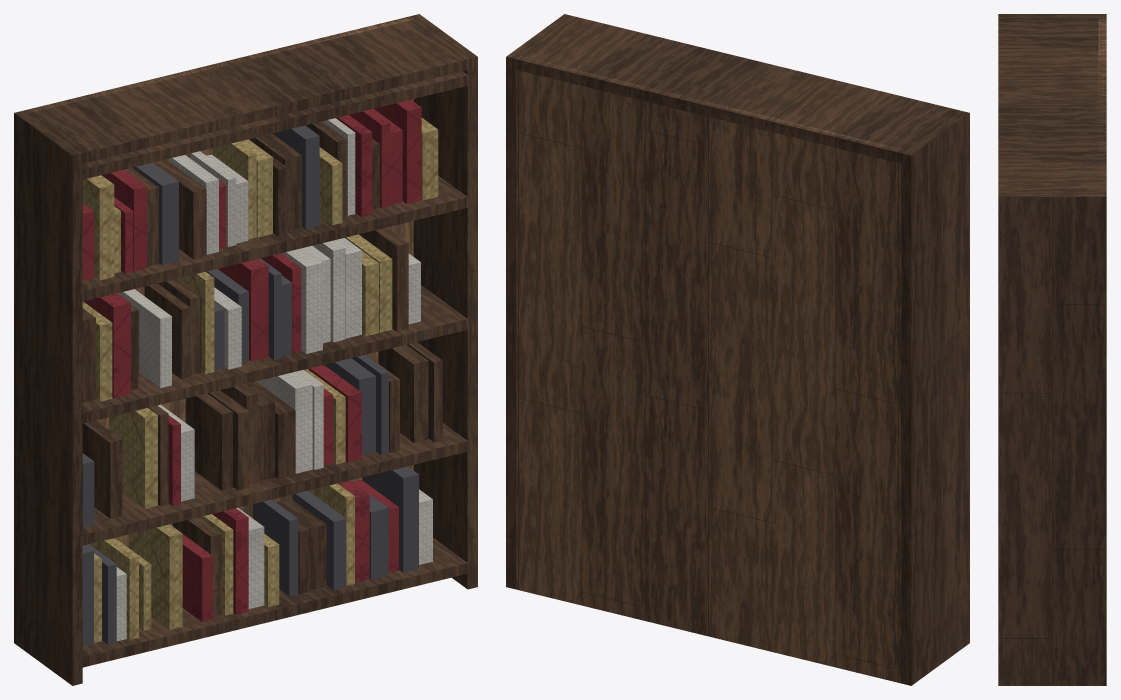
Rendered from PRP_Estante.fbx.
3 renders of one model, left to right at view 1: azimuth 30°, elevation 25°; view 2: azimuth 150°, elevation 25°; view 3: azimuth 270°, elevation 25°, orthographic. The views are drawn at different scales.
Parts seen in each view (by area): view 1: PRP_Estante; view 2: PRP_Estante; view 3: PRP_Estante.
Part boxes in pixels (x1=…): PRP_Estante: x1=14, y1=14, x2=477, y2=685; PRP_Estante: x1=506, y1=14, x2=969, y2=685; PRP_Estante: x1=998, y1=14, x2=1106, y2=685.
Bounding box in the file's own units: 1.6 × 2 × 0.4.
